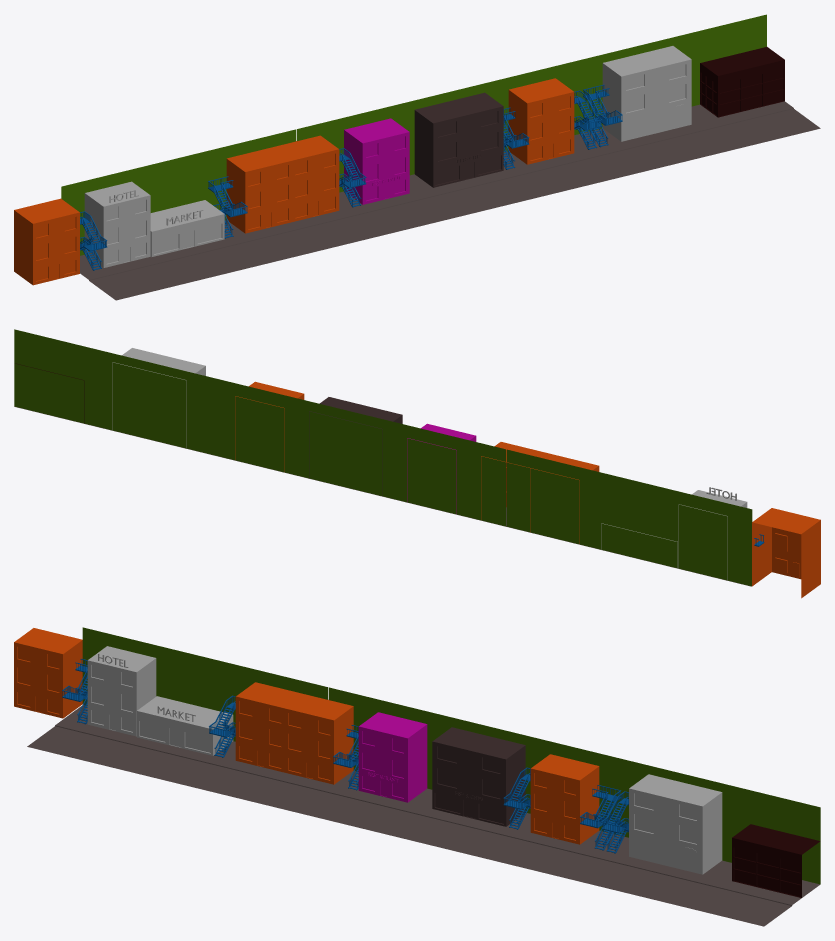
File: CityLevel.fbx
3 renders of one model, top to bottom at view 1: azimuth 30°, elevation 25°; view 2: azimuth 150°, elevation 25°; view 3: azimuth 330°, elevation 25°, orthographic. The views are drawn at different scales.
Visible parts, largest first — view 1: Ground, Fish_Chip_Shop, Apartment_Block_05, Stage_Plane_01, Stage_Plane_03, Apartment_Block_01, Apartment_Block_02, Apartment_Block_04, Train_Station, Hotel, Restaurant, Stage_Plane_02 (+8 smaller); view 2: Stage_Plane_01, Stage_Plane_02, Stage_Plane_03, Apartment_Block_01, Apartment_Block_05, Fish_Chip_Shop, Ground, Hotel, Restaurant, Apartment_Block_04, Apartment_Block_02, Apartment_Block_03; view 3: Ground, Apartment_Block_05, Stage_Plane_03, Fish_Chip_Shop, Stage_Plane_01, Restaurant, Apartment_Block_04, Apartment_Block_01, Apartment_Block_03, Hotel, Stage_Plane_02, Train_Station (+8 smaller).
Part boxes in pixels (<box>): Ground: <box>80,101,820,300</box>; Fish_Chip_Shop: <box>414,92,503,187</box>; Apartment_Block_05: <box>602,46,691,141</box>; Stage_Plane_01: <box>61,129,296,255</box>; Stage_Plane_03: <box>532,14,766,134</box>; Apartment_Block_01: <box>14,198,79,285</box>; Apartment_Block_02: <box>226,147,292,233</box>; Apartment_Block_04: <box>508,78,574,164</box>; Train_Station: <box>700,47,784,117</box>; Hotel: <box>84,181,150,267</box>; Restaurant: <box>344,118,409,204</box>; Stage_Plane_02: <box>297,72,531,192</box>; Stage_Plane_01: <box>506,449,752,586</box>; Stage_Plane_02: <box>260,389,505,526</box>; Stage_Plane_03: <box>14,329,259,466</box>; Apartment_Block_01: <box>752,508,820,598</box>; Apartment_Block_05: <box>112,348,205,447</box>; Fish_Chip_Shop: <box>309,397,402,496</box>; Ground: <box>14,406,751,586</box>; Hotel: <box>678,487,747,580</box>; Restaurant: <box>407,423,476,513</box>; Apartment_Block_04: <box>235,381,304,471</box>; Apartment_Block_02: <box>530,453,599,543</box>; Apartment_Block_03: <box>481,442,549,532</box>; Ground: <box>27,705,819,926</box>; Apartment_Block_05: <box>629,774,722,874</box>; Stage_Plane_03: <box>575,747,820,884</box>; Fish_Chip_Shop: <box>432,727,525,826</box>; Stage_Plane_01: <box>82,627,328,741</box>; Restaurant: <box>358,712,427,802</box>; Apartment_Block_04: <box>530,754,599,844</box>; Apartment_Block_01: <box>14,628,82,718</box>; Apartment_Block_03: <box>285,694,353,784</box>; Hotel: <box>87,646,156,736</box>; Stage_Plane_02: <box>329,687,574,813</box>; Train_Station: <box>732,824,820,897</box>.
Size of the model in its own units: 64.06 by 6.06 by 8.
